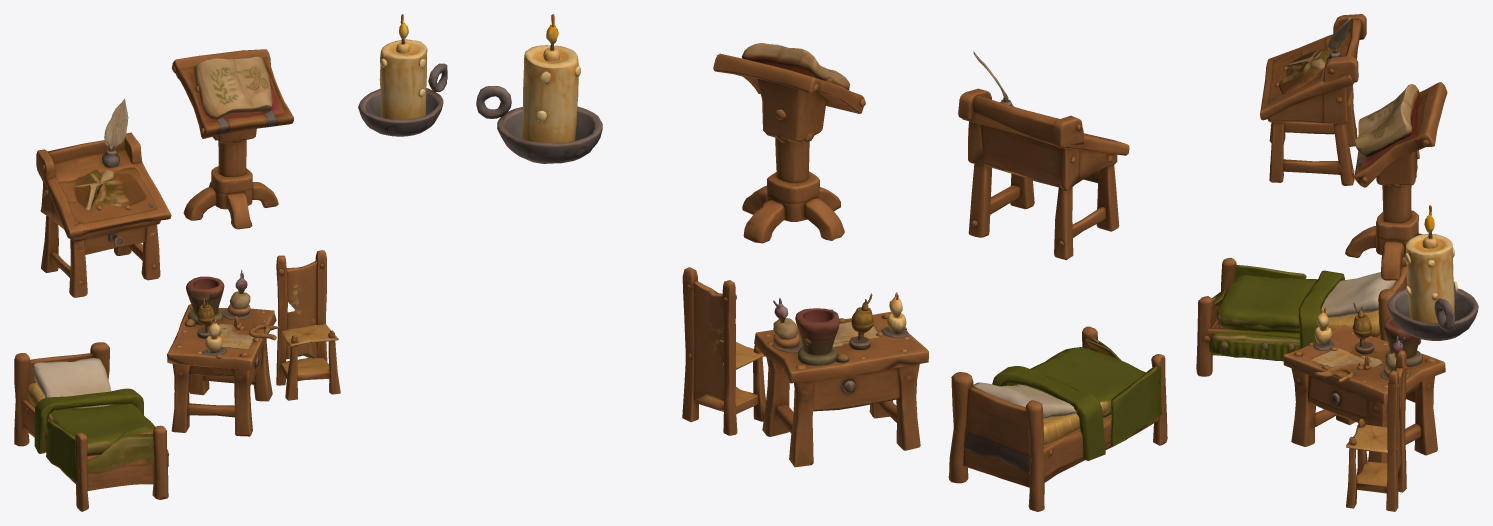
The model's file is coleccion_torre_estudio.glb.
3 views of the same model, side by side, from view 1: azimuth 30°, elevation 25°; view 2: azimuth 150°, elevation 25°; view 3: azimuth 270°, elevation 25° (orthographic). The views are drawn at different scales.
Visible parts, largest first — view 1: geometry_0; view 2: geometry_0; view 3: geometry_0.
Part boxes in pixels (x1,y1,x2,y2): geometry_0: [14, 14, 447, 511]; geometry_0: [476, 14, 1167, 511]; geometry_0: [1196, 14, 1478, 511].
Bounding box in the file's own units: 1 × 0.7071 × 0.4786.
1 material, 1 textured.
